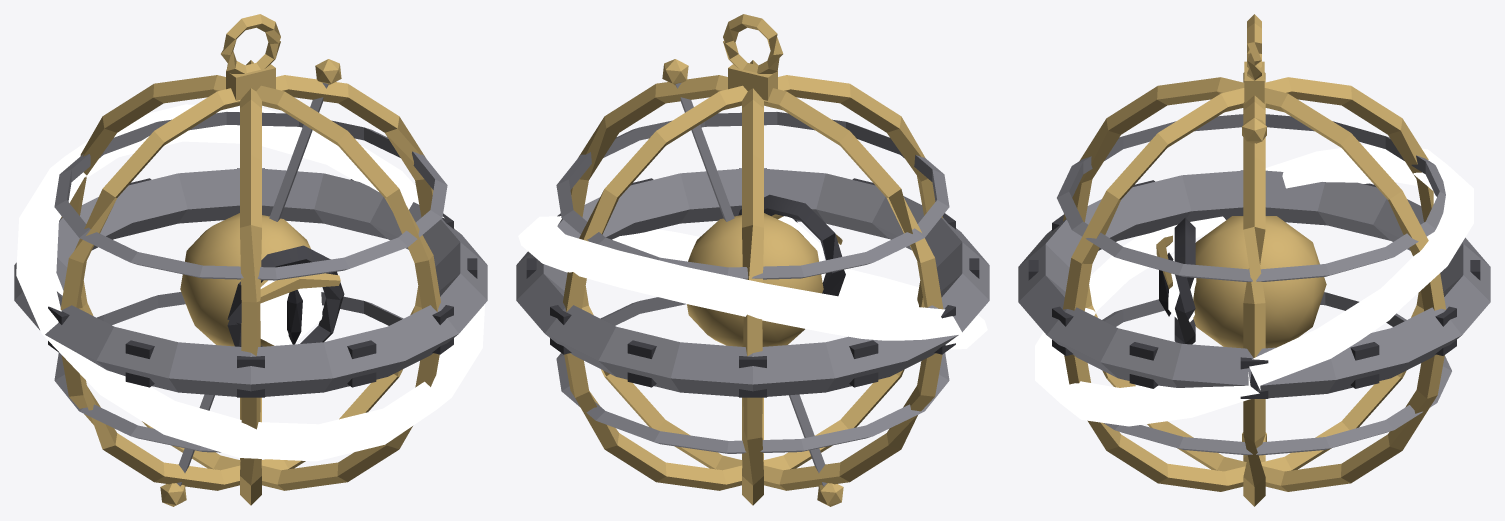
The model's file is astrolabe-armillary.glb.
3 renders of one model, left to right at view 1: azimuth 30°, elevation 25°; view 2: azimuth 150°, elevation 25°; view 3: azimuth 270°, elevation 25°, orthographic.
Parts seen in each view (by area): view 1: astrolabe_armillary; view 2: astrolabe_armillary; view 3: astrolabe_armillary.
Boxes of the visible parts, x1,y1,x2,y2 form: astrolabe_armillary: (14, 14, 487, 506); astrolabe_armillary: (516, 14, 989, 506); astrolabe_armillary: (1018, 14, 1490, 506).
Size of the model in its own units: 0.7916 by 0.8537 by 0.7766.
